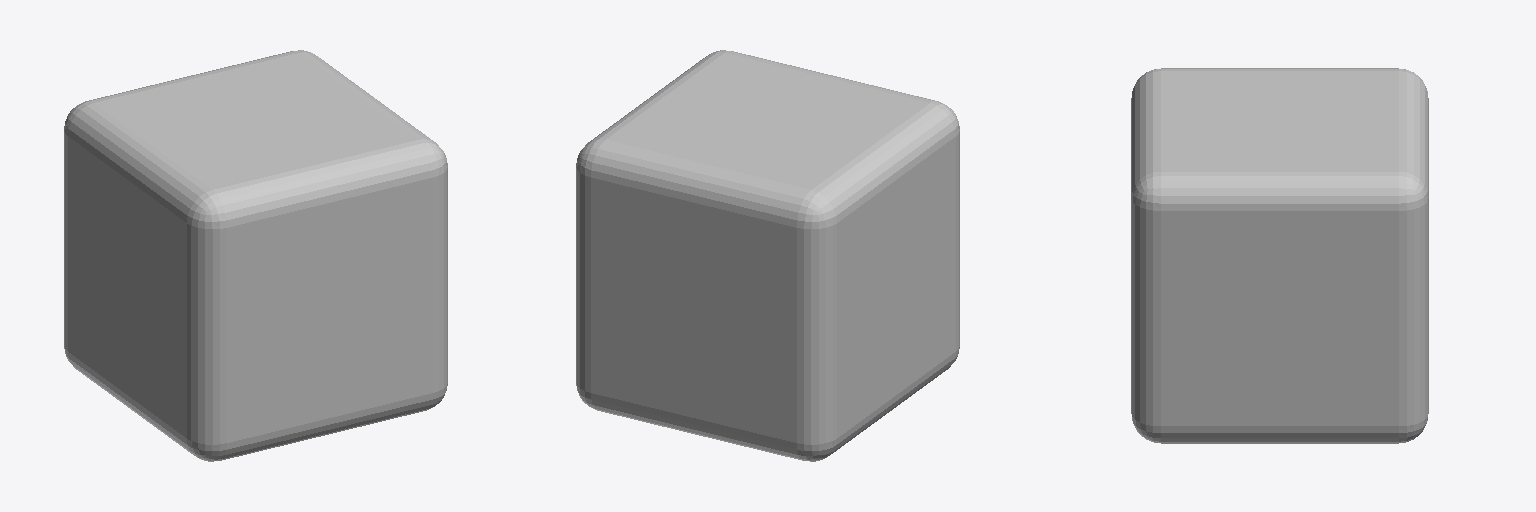
File: curvyboxsmall.obj
3 renders of one model, left to right at view 1: azimuth 30°, elevation 25°; view 2: azimuth 150°, elevation 25°; view 3: azimuth 270°, elevation 25°, orthographic.
Parts seen in each view (by area): view 1: Cube; view 2: Cube; view 3: Cube.
Boxes of the visible parts, box(x1,y1,x2,y2) form: Cube: box(64, 50, 447, 461); Cube: box(576, 50, 959, 461); Cube: box(1131, 68, 1428, 443).
Size of the model in its own units: 1 by 1 by 1.